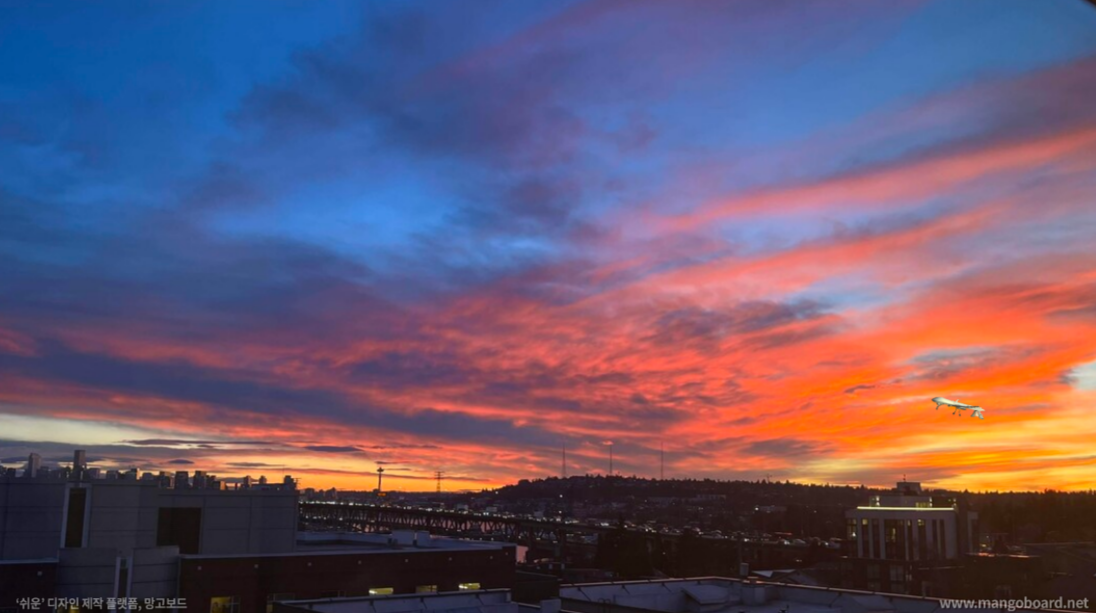military drone: (930, 396, 986, 420)
